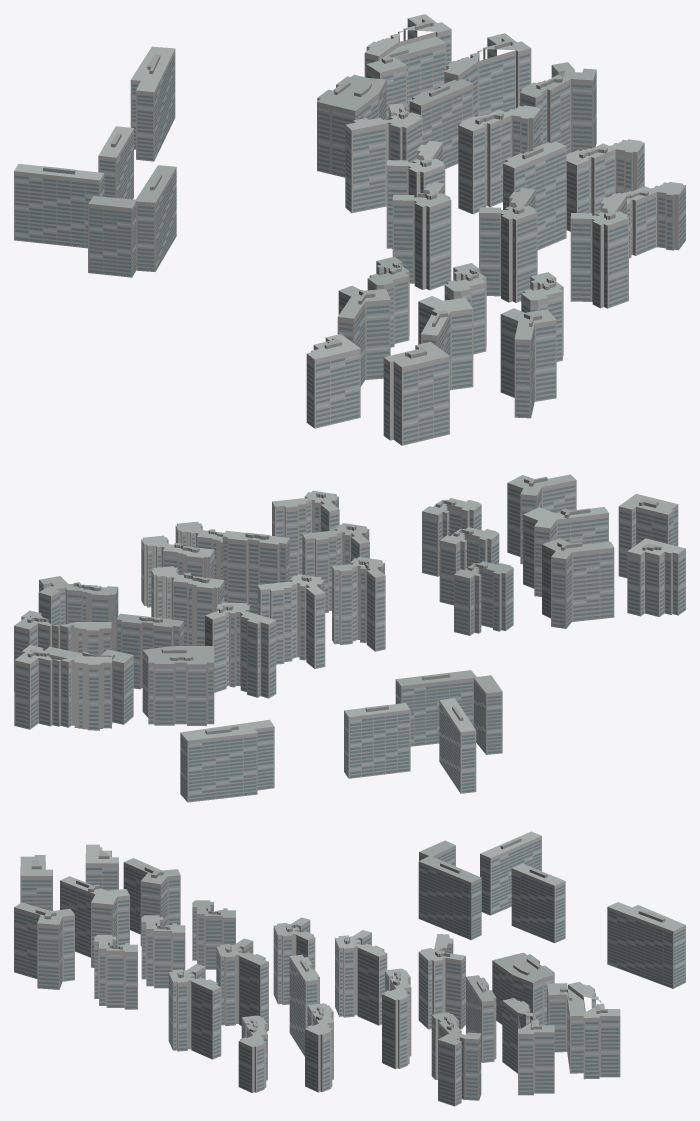
Rendered from apt-a10026748.glb.
The picture shows the model from 3 angles, top to bottom: view 1: azimuth 30°, elevation 25°; view 2: azimuth 150°, elevation 25°; view 3: azimuth 270°, elevation 25°; orthographic projection. The views are drawn at different scales.
Visible parts, largest first — view 1: apt-a10026748; view 2: apt-a10026748; view 3: apt-a10026748.
Boxes of the visible parts, bbox=[...] form: apt-a10026748: bbox=[14, 14, 685, 445]; apt-a10026748: bbox=[14, 474, 685, 802]; apt-a10026748: bbox=[14, 831, 685, 1106].
Size of the model in its own units: 371 by 63.4 by 485.
